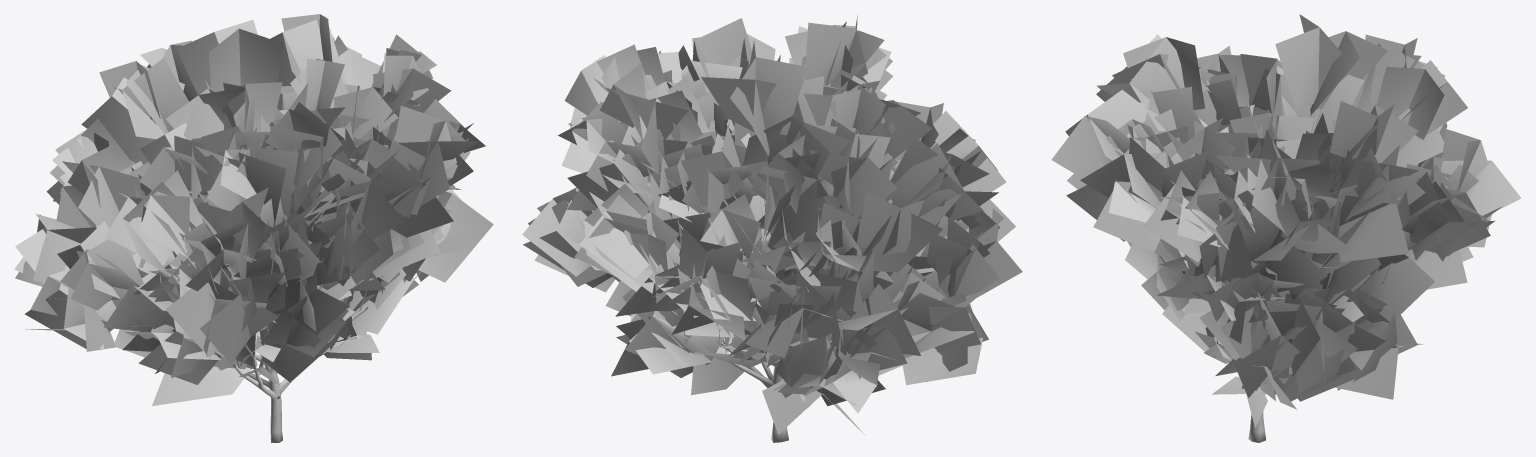
The model's file is BeechAmerican_A.fbx.
The picture shows the model from 3 angles, left to right: view 1: azimuth 30°, elevation 25°; view 2: azimuth 150°, elevation 25°; view 3: azimuth 270°, elevation 25°; orthographic projection. The views are drawn at different scales.
Parts seen in each view (by area): view 1: BeechAmerican_A_LOD0; view 2: BeechAmerican_A_LOD0; view 3: BeechAmerican_A_LOD0.
Boxes of the visible parts, x1=… form: BeechAmerican_A_LOD0: x1=14, y1=14, x2=493, y2=442; BeechAmerican_A_LOD0: x1=522, y1=15, x2=1022, y2=442; BeechAmerican_A_LOD0: x1=1051, y1=14, x2=1521, y2=442.
Bounding box in the file's own units: 1900 × 1628 × 1698.
